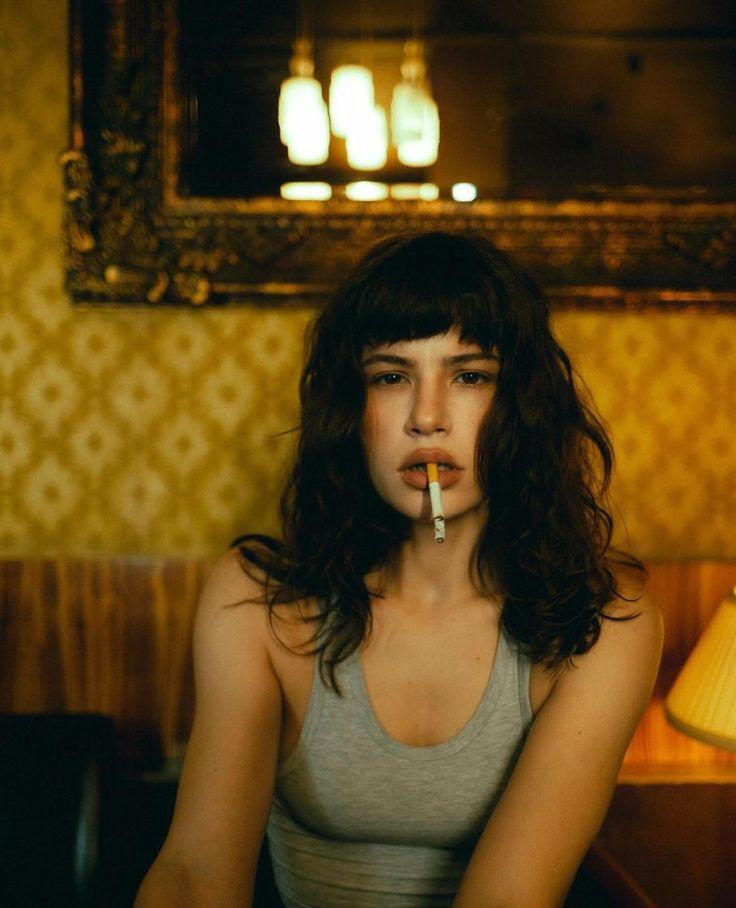cigarette: (428, 462, 446, 544)
